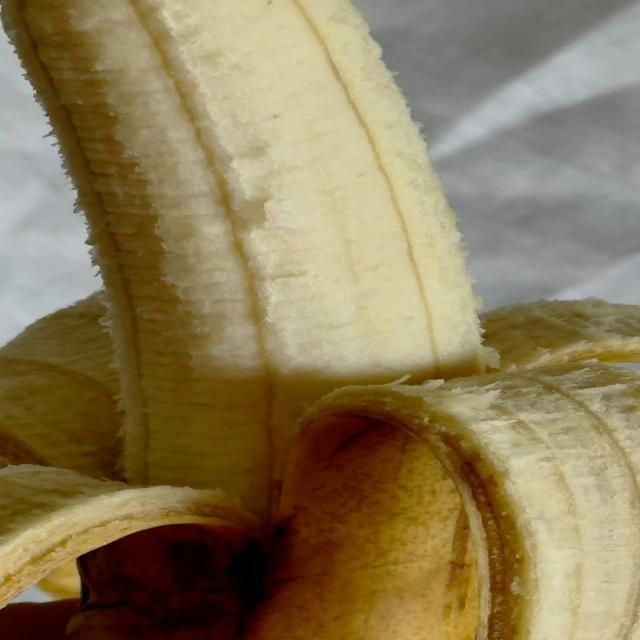banana: (0, 0, 639, 639), (5, 0, 485, 514), (247, 364, 639, 639), (0, 465, 259, 639), (0, 294, 121, 479), (0, 295, 121, 479), (481, 299, 639, 367)
